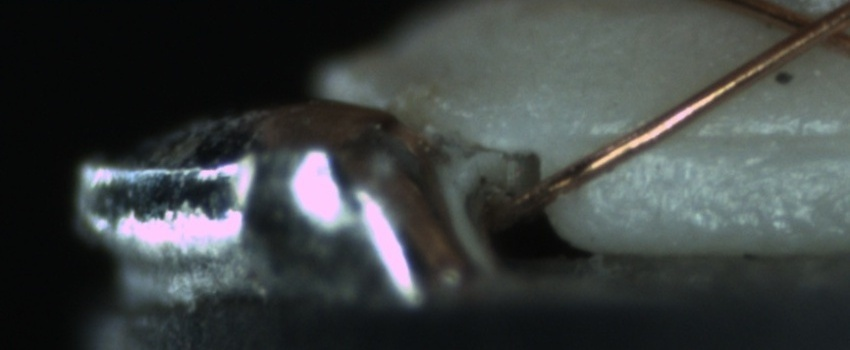CL: (768, 2, 847, 56)
DL: (613, 102, 840, 175)
